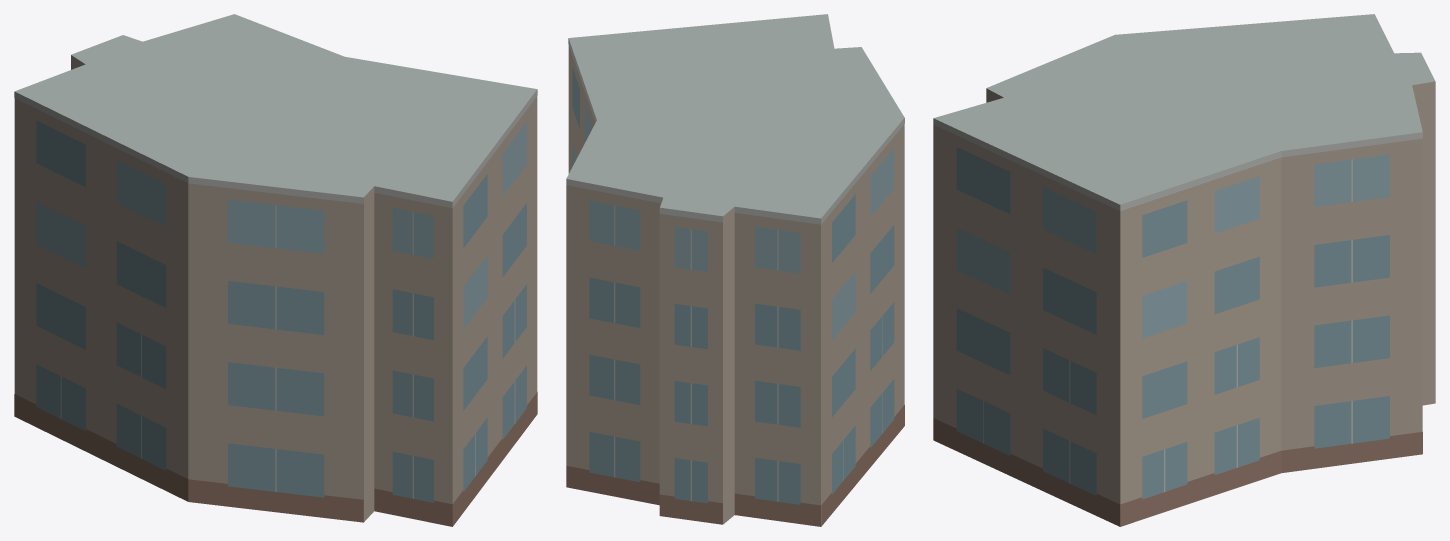
The model's file is survey-upis-32666106.glb.
3 renders of one model, left to right at view 1: azimuth 30°, elevation 25°; view 2: azimuth 150°, elevation 25°; view 3: azimuth 270°, elevation 25°, orthographic. The views are drawn at different scales.
Visible parts, largest first — view 1: survey-upis-32666106.tmp; view 2: survey-upis-32666106.tmp; view 3: survey-upis-32666106.tmp.
Part boxes in pixels (x1,y1,x2,y2): survey-upis-32666106.tmp: (14,14,537,526); survey-upis-32666106.tmp: (566,14,904,526); survey-upis-32666106.tmp: (933,14,1435,526).
Bounding box in the file's own units: 15.51 × 12.2 × 17.25.
